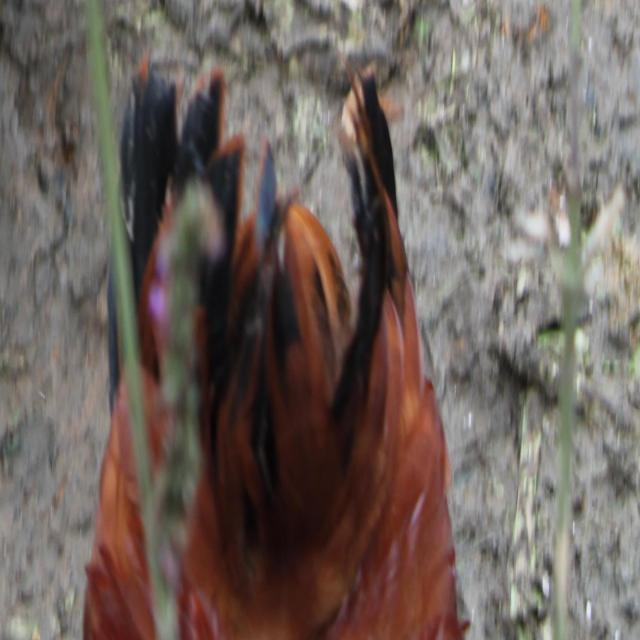cook: (106, 38, 468, 640), (83, 291, 173, 640)
